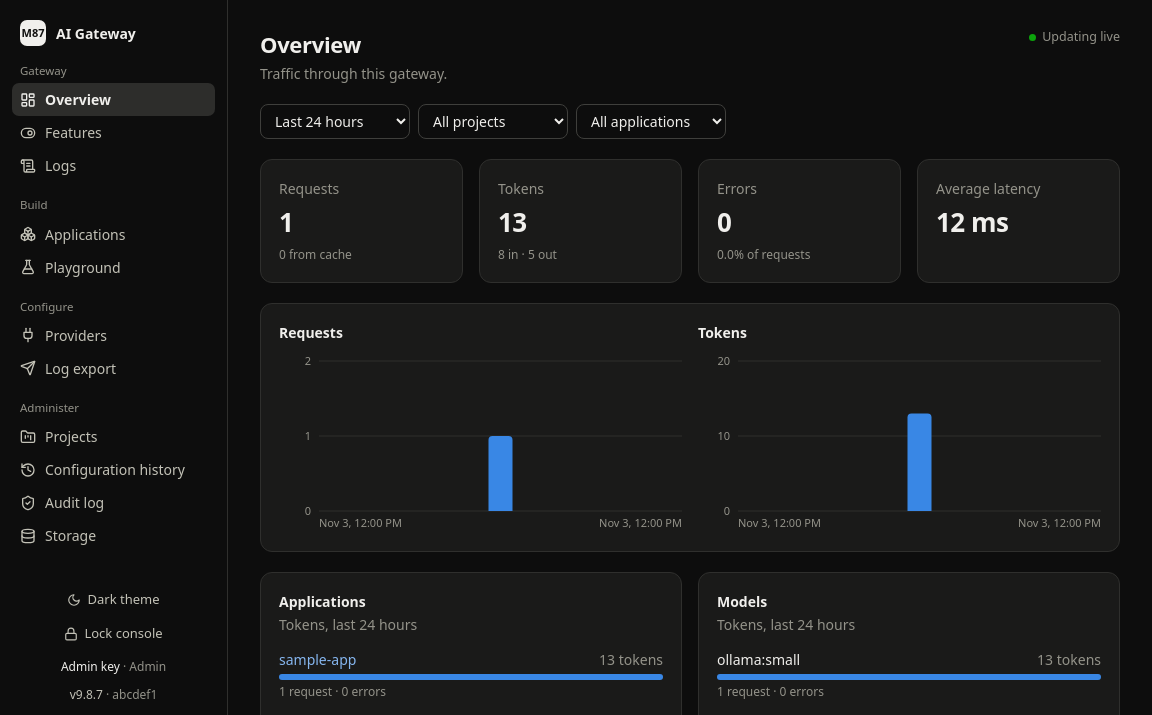
Test case: session › returns to sign-in when the session expires, instead of showing broken pages
The image size is (1152, 715).
What coordinates should you click on to do the following:
click the link "Logs"
I would click on:
 (48, 166)
Its box is [20, 156, 76, 175].
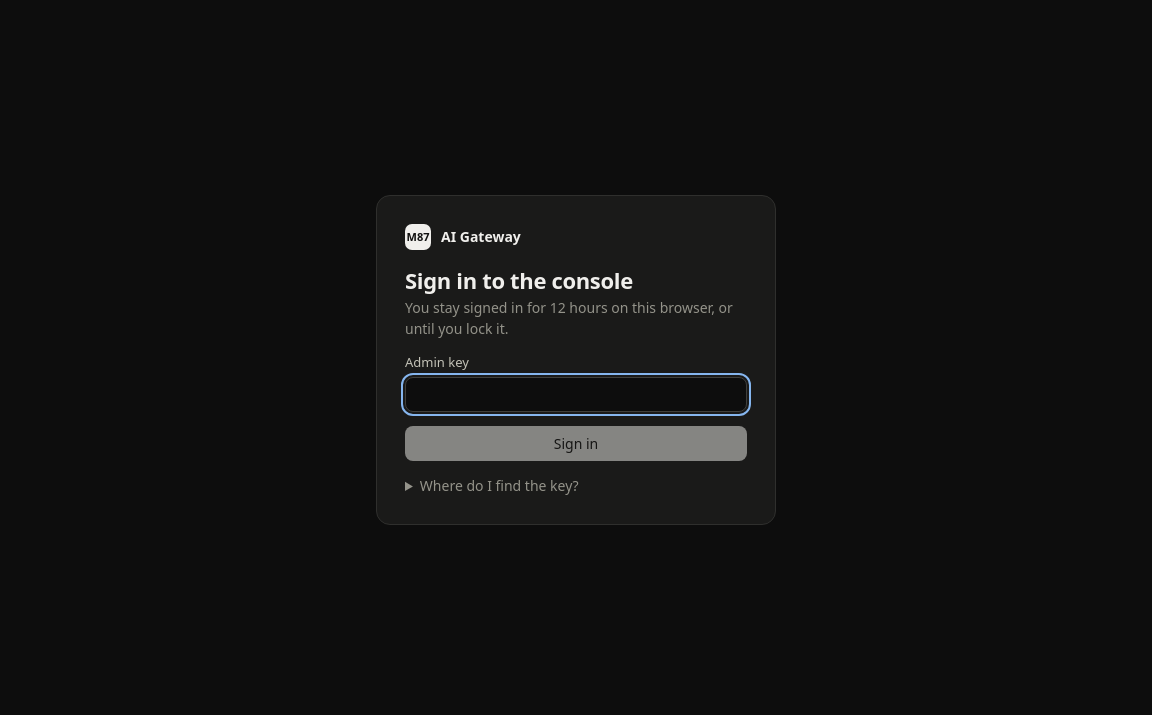
Expected: the password field labelled "Admin key" is shown, [405, 377, 747, 412]
Expected: the link "Logs" is gone
